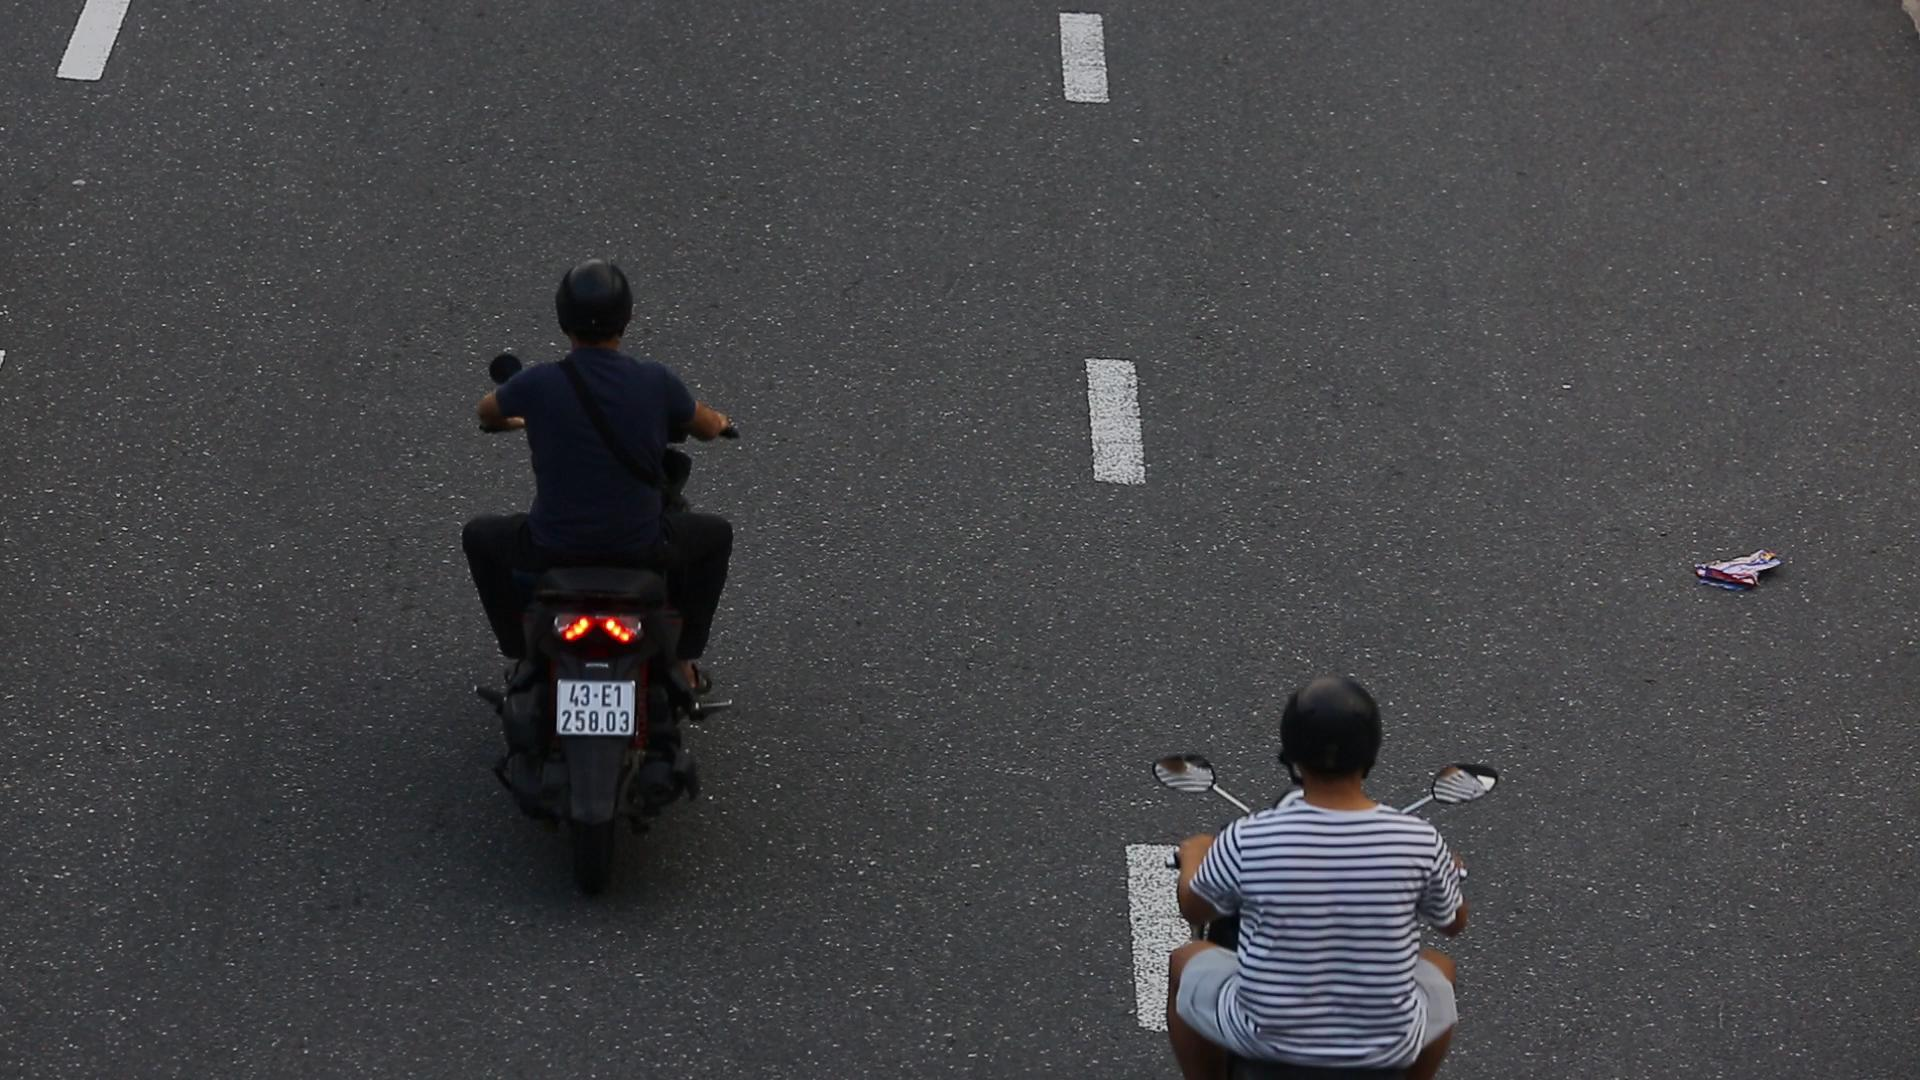motobike: (409, 215, 769, 968)
